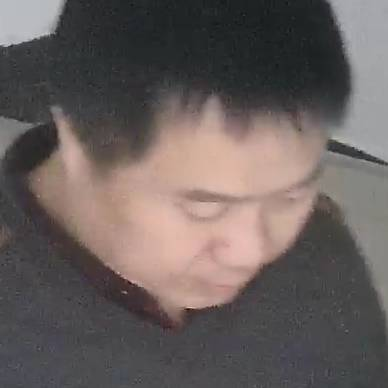cb: (40, 37, 338, 335)
